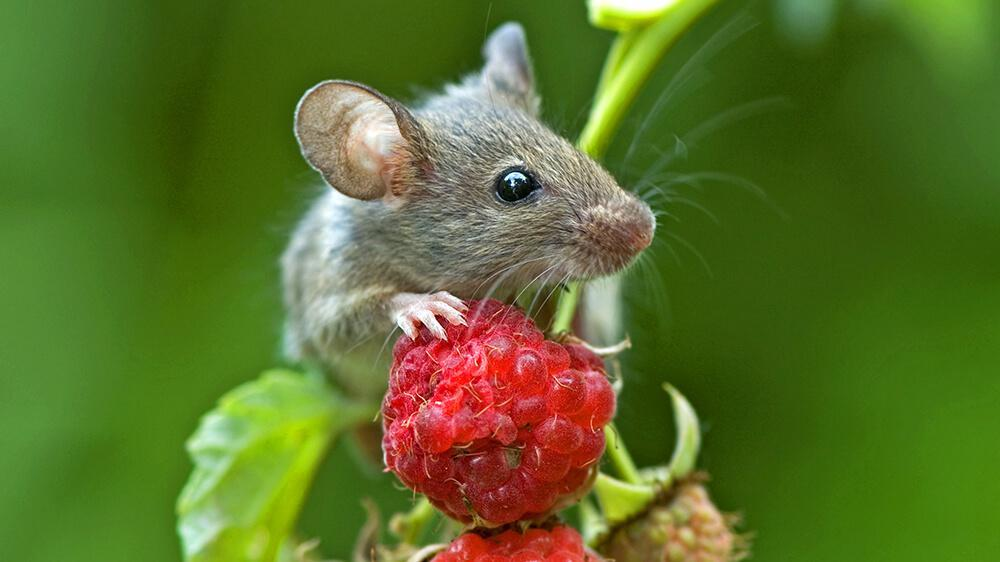rat: (282, 24, 657, 407)
